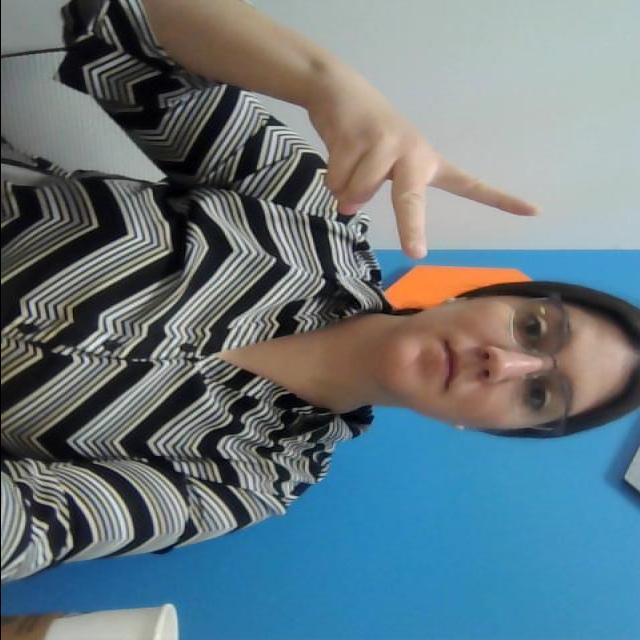Scissors: (298, 74, 544, 259)
